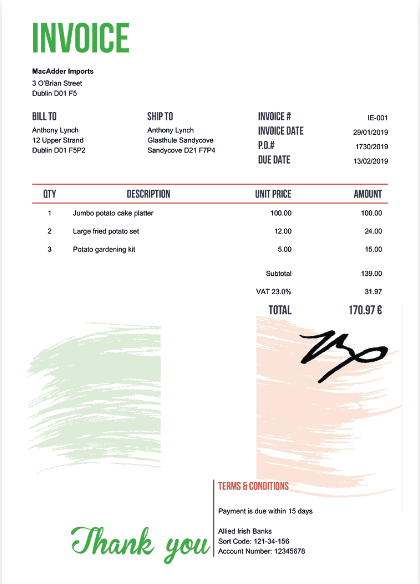Table: (17, 174, 393, 317)
